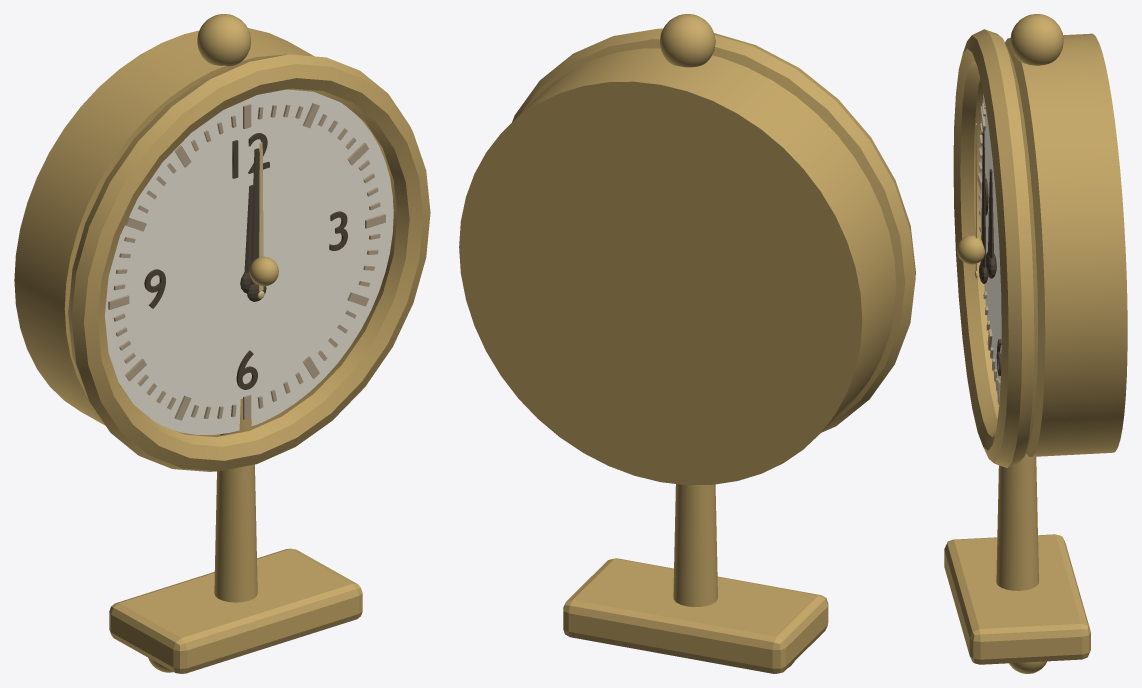
File: clock.glb
3 views of the same model, side by side, from view 1: azimuth 30°, elevation 25°; view 2: azimuth 150°, elevation 25°; view 3: azimuth 270°, elevation 25° (orthographic). The views are drawn at different scales.
Parts seen in each view (by area): view 1: clock_face, decor_clock_bezel, decor_clock_housing, decor_clock_base, decor_clock_stand, clock_ticks, decor_clock_crown, clock_hand_minute, decor_clock_hub, clock_hand_hour; view 2: decor_clock_housing, decor_clock_base, decor_clock_bezel, decor_clock_stand, decor_clock_crown; view 3: decor_clock_housing, decor_clock_bezel, decor_clock_base, decor_clock_stand, clock_face, decor_clock_crown, clock_ticks, decor_clock_hub, clock_hand_minute, clock_hand_hour, decor_clock_foot_1, clock_hand_second.
Part boxes in pixels (x1,y1,x2,y2): clock_face: (105,89,393,434); decor_clock_bezel: (68,54,430,471); decor_clock_housing: (14,28,393,436); decor_clock_base: (109,548,362,673); decor_clock_stand: (214,398,257,602); clock_ticks: (108,103,385,420); decor_clock_crown: (197,14,250,66); clock_hand_minute: (247,148,266,301); decor_clock_hub: (249,256,278,286); clock_hand_hour: (240,185,253,293); decor_clock_housing: (459,48,896,485); decor_clock_base: (563,558,828,673); decor_clock_bezel: (512,28,915,432); decor_clock_stand: (673,484,717,606); decor_clock_crown: (660,14,715,67); decor_clock_housing: (1005,33,1127,456); decor_clock_bezel: (953,29,1037,467); decor_clock_base: (944,534,1090,664); decor_clock_stand: (996,453,1038,590); clock_face: (980,94,1001,394); decor_clock_crown: (1010,14,1063,65); clock_ticks: (977,96,1000,404); decor_clock_hub: (957,235,985,264); clock_hand_minute: (979,131,988,283); clock_hand_hour: (986,169,996,278); decor_clock_foot_1: (1009,661,1046,673); clock_hand_second: (974,123,977,278).
Bounding box in the file's own units: 0.18 × 0.28 × 0.0751.
